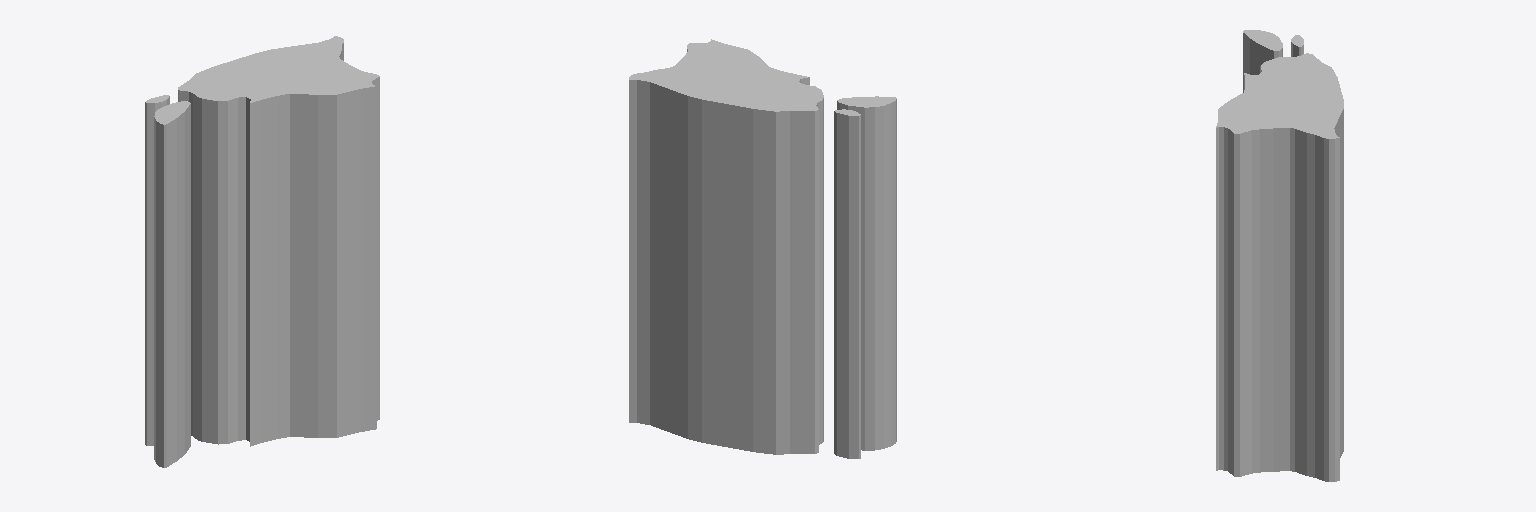
3 views of the same model, side by side, from view 1: azimuth 30°, elevation 25°; view 2: azimuth 150°, elevation 25°; view 3: azimuth 270°, elevation 25° (orthographic).
Parts seen in each view (by area): view 1: EE.002_CUCurve.1751; view 2: EE.002_CUCurve.1751; view 3: EE.002_CUCurve.1751.
Part boxes in pixels (bbox=[...]): EE.002_CUCurve.1751: bbox=[145, 36, 379, 467]; EE.002_CUCurve.1751: bbox=[629, 39, 896, 458]; EE.002_CUCurve.1751: bbox=[1216, 30, 1343, 481].
Bounding box in the file's own units: 0.0342 × 0.05 × 0.0169.